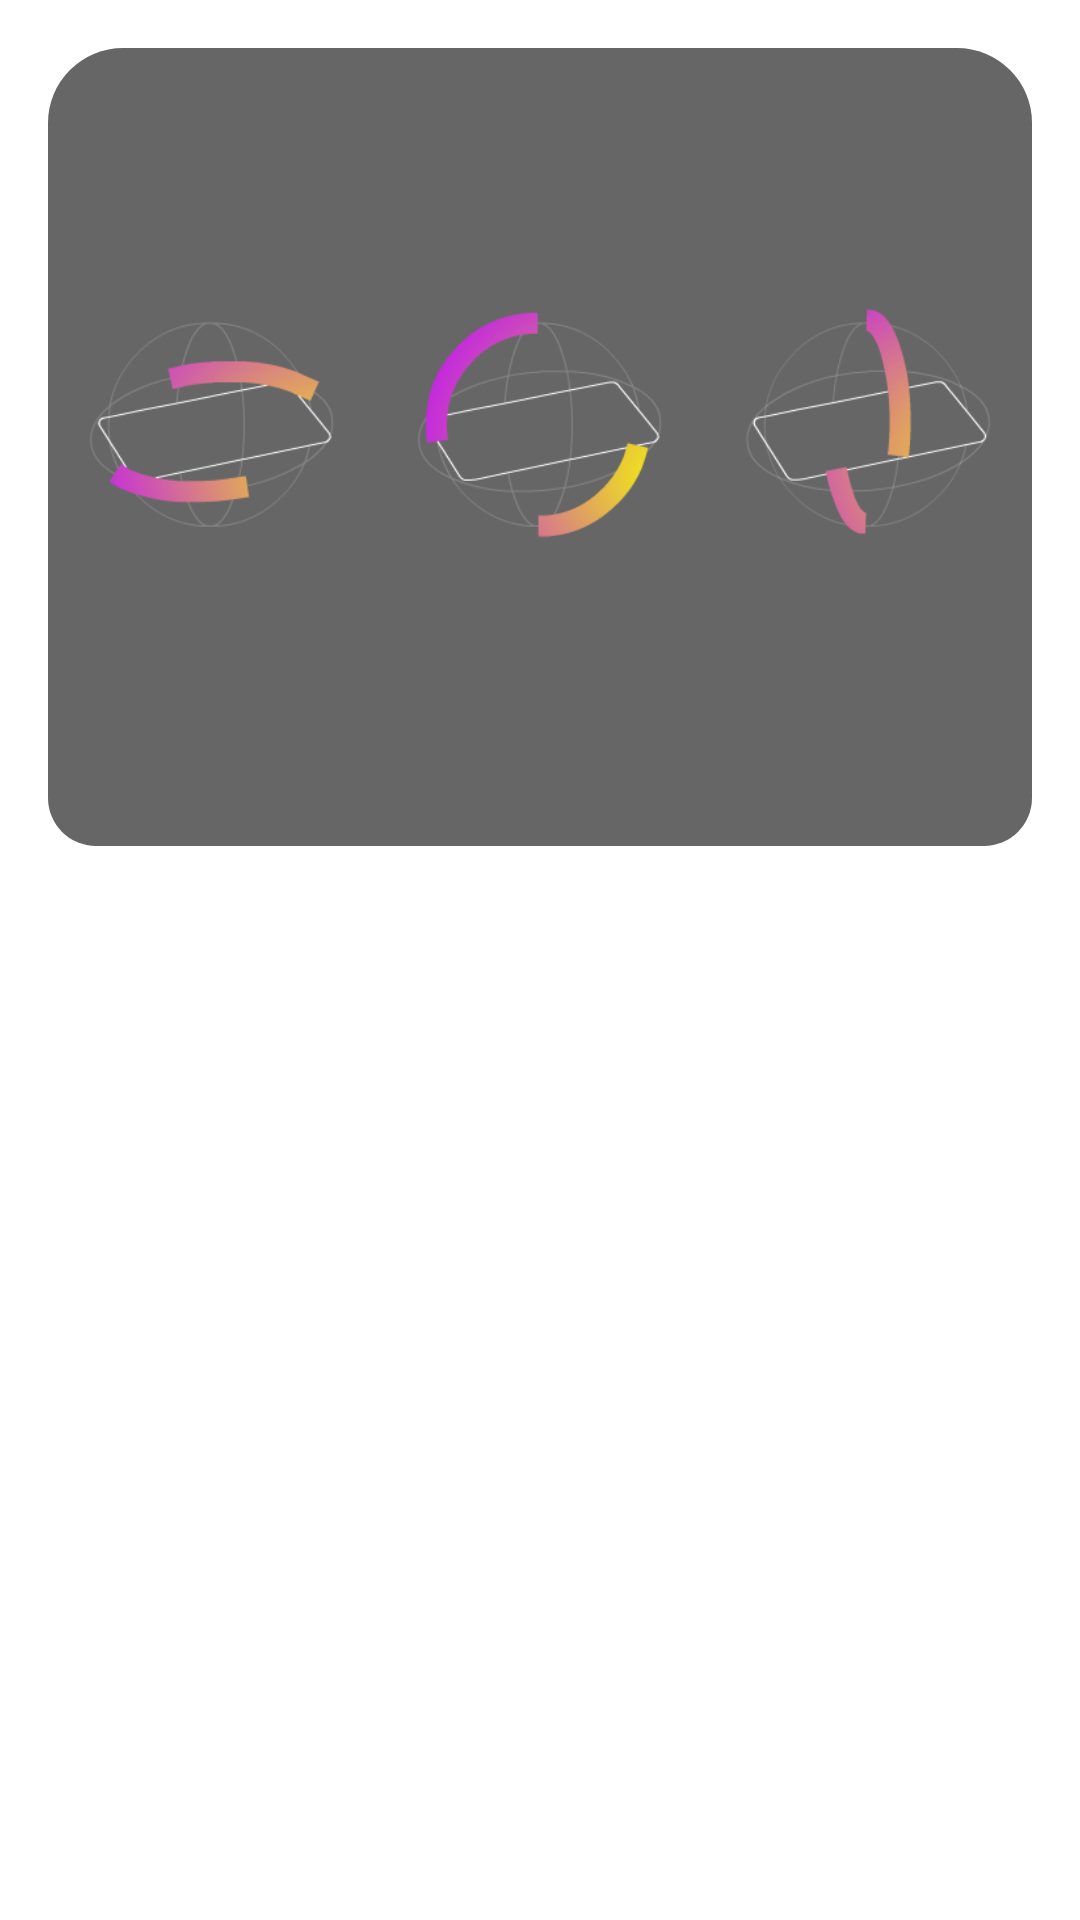

Screen size 1080*1920. Icon name, then its center in pixels as point (x, y):
axis: point (869, 421), point (542, 424), point (214, 424)
